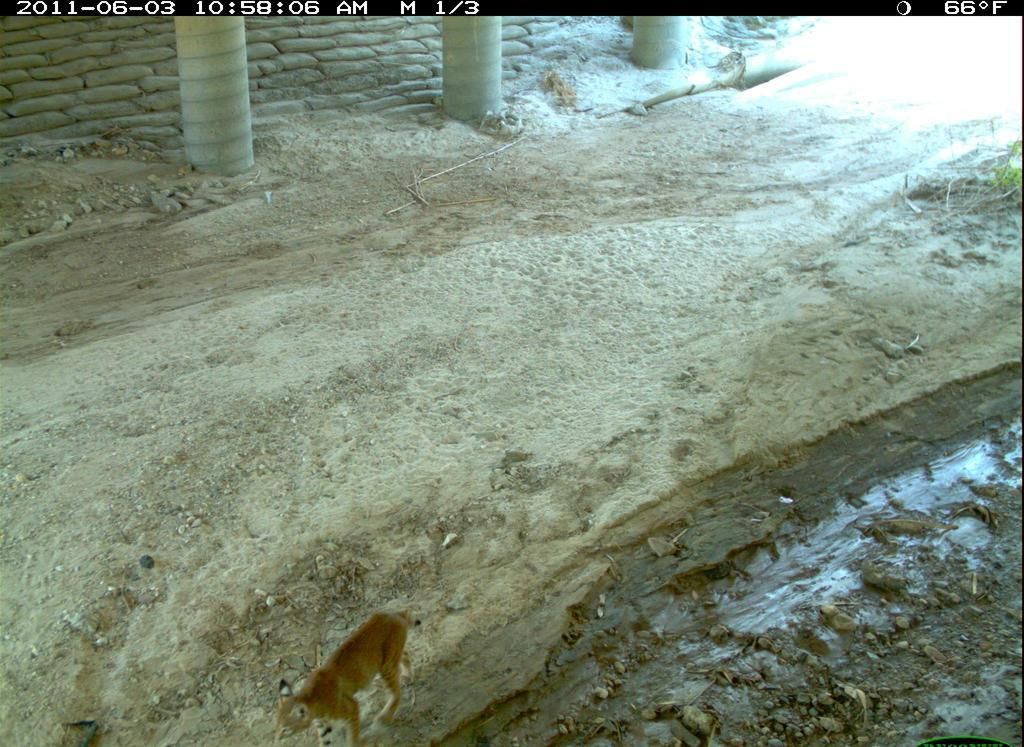bobcat: (244, 603, 440, 742)
